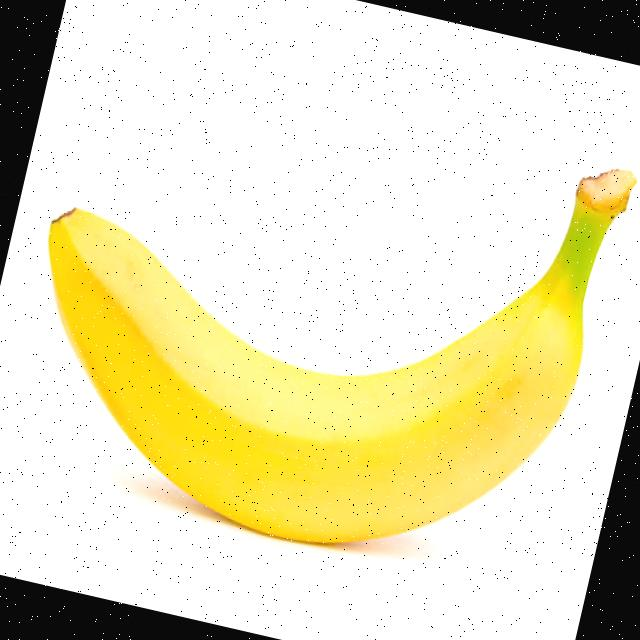banana: (0, 87, 617, 595)
